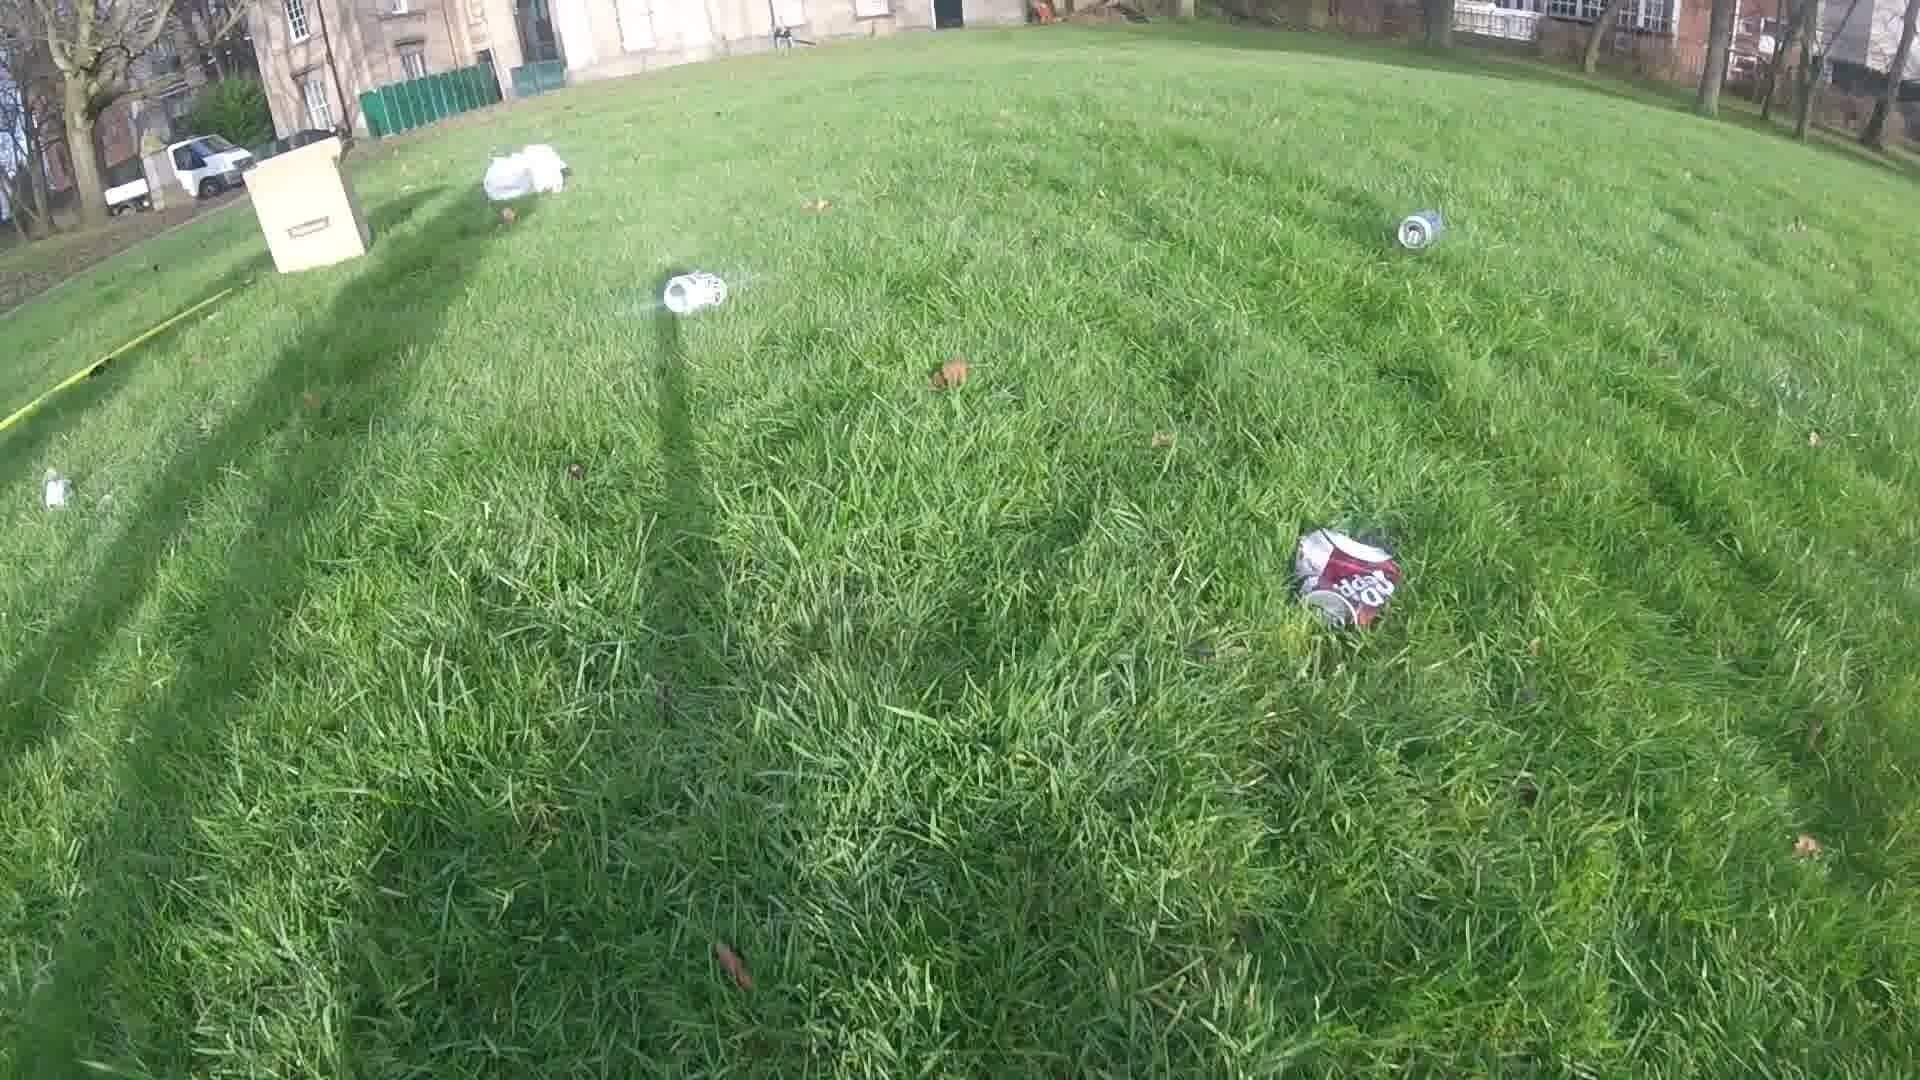litter: (237, 141, 364, 277), (1290, 534, 1402, 632), (483, 146, 568, 203), (659, 269, 729, 316), (1396, 208, 1441, 251), (38, 481, 67, 506)
